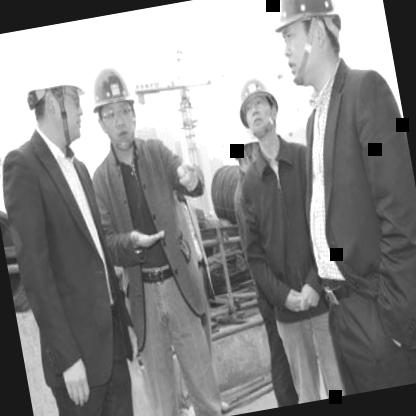helmet: (13, 35, 90, 151), (265, 0, 353, 92), (82, 56, 144, 152), (232, 70, 286, 142), (225, 121, 266, 176)
